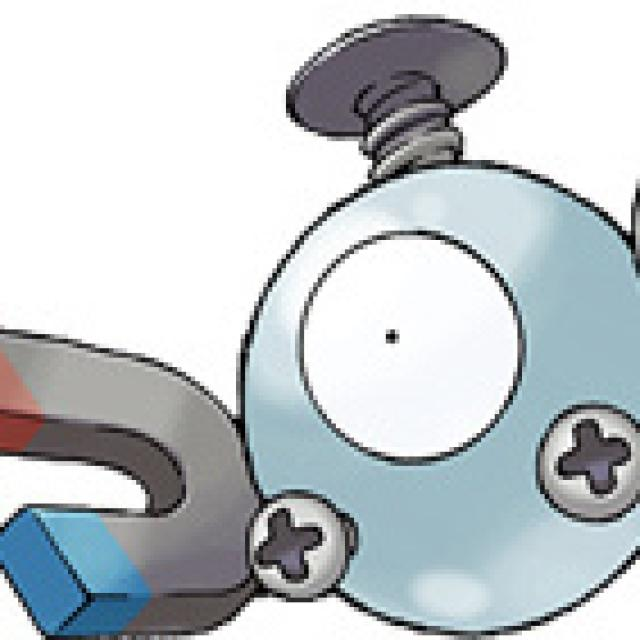Magnemite: (10, 8, 640, 640)
